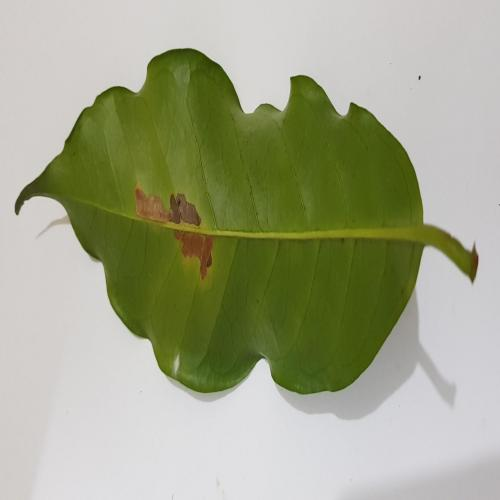leaf: (135, 186, 214, 279)
